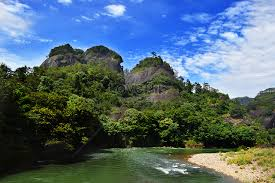lake: (30, 139, 232, 183)
mountain: (7, 47, 270, 145)
sky: (2, 1, 275, 68)
